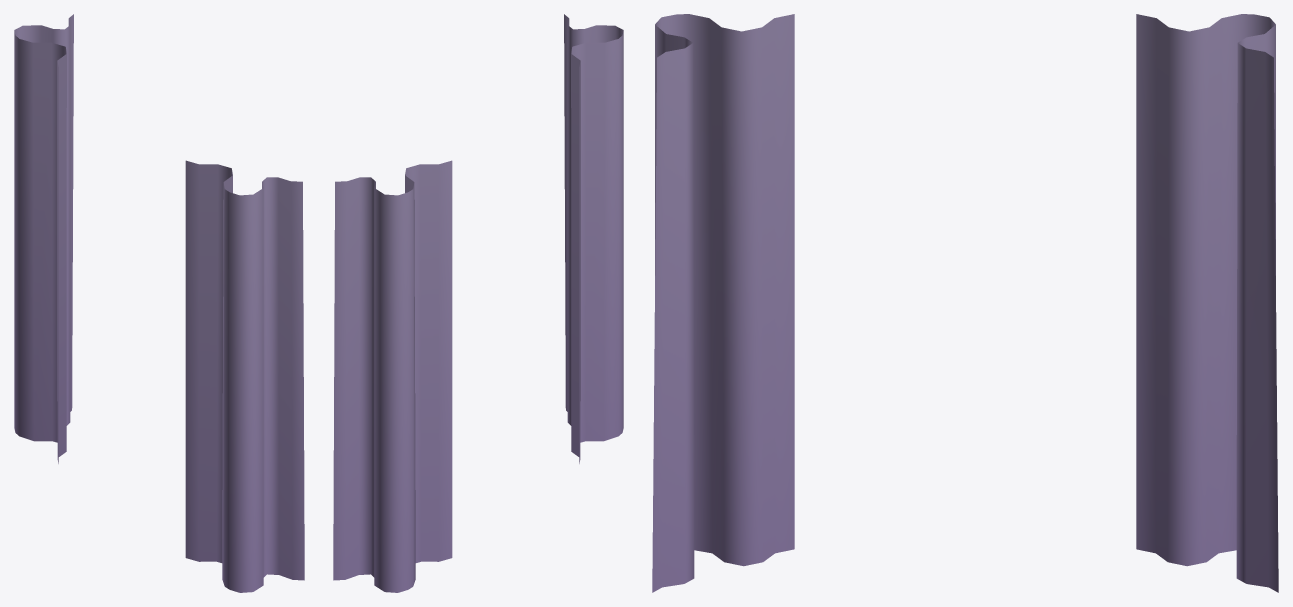
Rendered from (%no-merge) (%drape) 3.glb.
3 renders of one model, left to right at view 1: azimuth 30°, elevation 25°; view 2: azimuth 150°, elevation 25°; view 3: azimuth 270°, elevation 25°, orthographic. The views are drawn at different scales.
Parts seen in each view (by area): view 1: (%no-merge) (%drape) 3(Clone); view 2: (%no-merge) (%drape) 3(Clone); view 3: (%no-merge) (%drape) 3(Clone).
Boxes of the visible parts, left/top/right/bottom form: (%no-merge) (%drape) 3(Clone): left=14, top=14, right=304, bottom=592; (%no-merge) (%drape) 3(Clone): left=333, top=14, right=623, bottom=592; (%no-merge) (%drape) 3(Clone): left=652, top=14, right=1278, bottom=592.
Size of the model in its own units: 0.1747 by 1 by 1.06.
